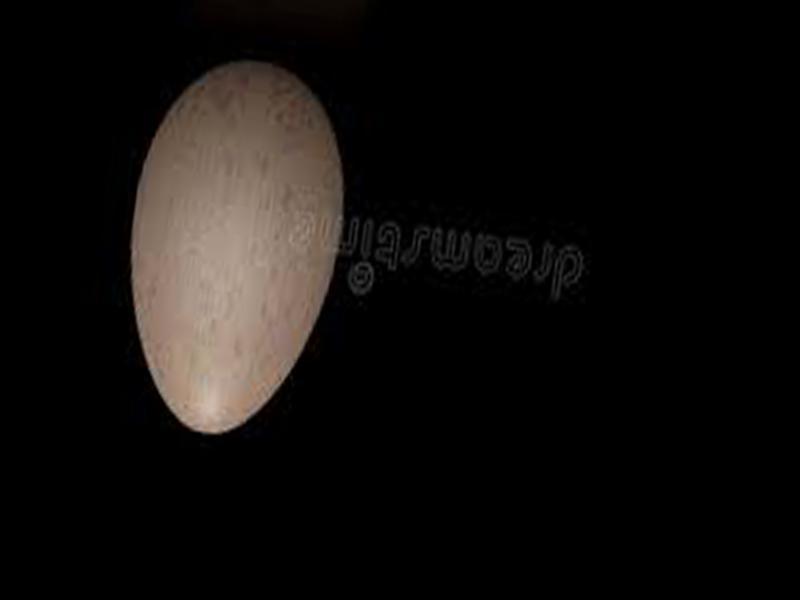Eggs: (105, 47, 359, 449)
